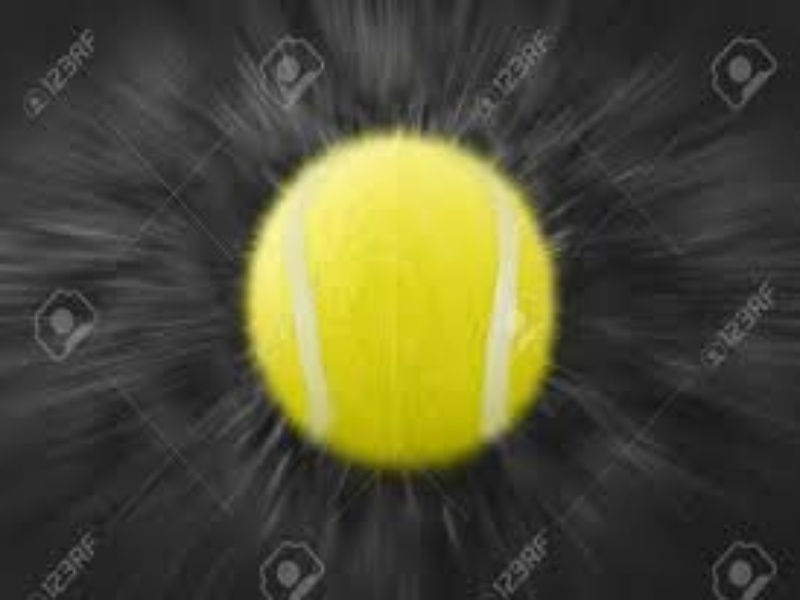tennis ball: (224, 121, 582, 504)
